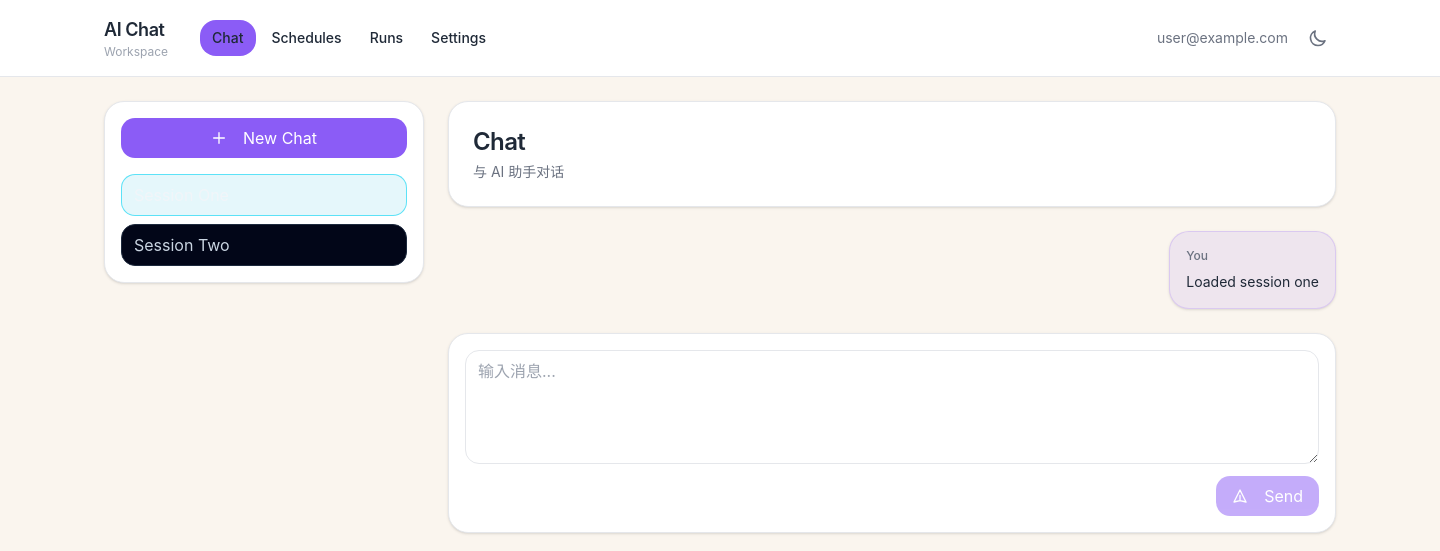
Scenario: ChatPage › loads messages when switching sessions
The image size is (1440, 551).
Expected: the text "Loaded session one" is shown, [1186, 272, 1319, 292]
Click the button "Session Two" at coordinates (182, 245), box [121, 224, 407, 266]
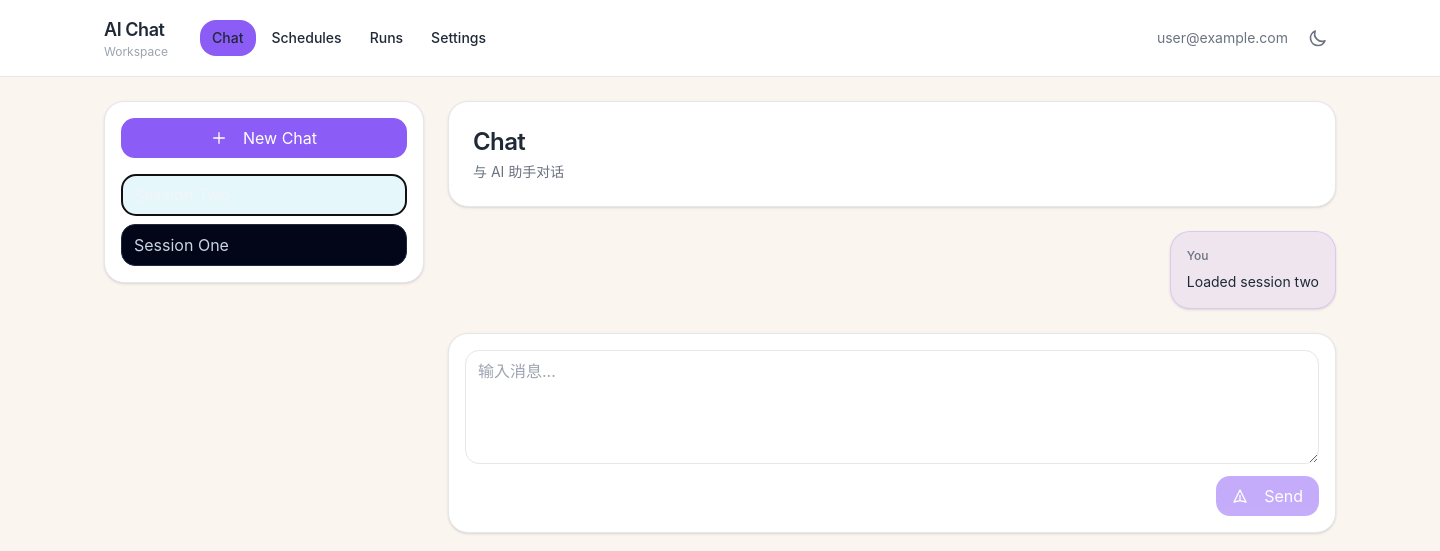
Expected: the text "Loaded session two" is shown, [1187, 272, 1319, 292]
